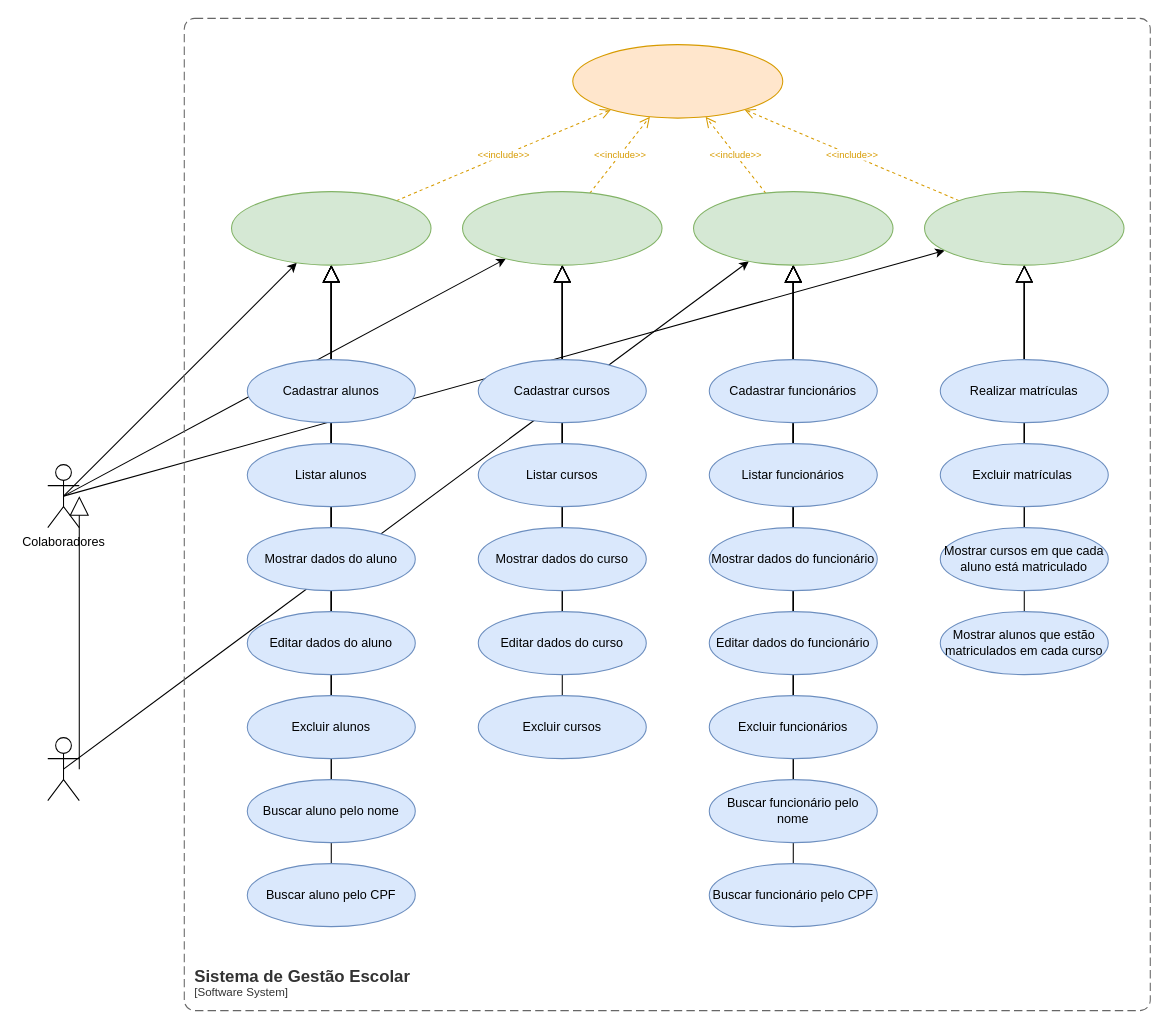
Some shapes in this 1169 by 1029 pixel diagram are drawn without their labels. The box of each missing label's shape, as (x1, y1, x2, y2) in pixels:
Administradores: (47, 737, 79, 801)
Gerenciar alunos: (230, 191, 431, 265)
Gerenciar cursos: (461, 191, 662, 265)
Gerenciar funcionários: (692, 191, 893, 265)
Gerenciar matrículas: (923, 191, 1124, 265)
Login de usuários: (572, 44, 783, 118)
